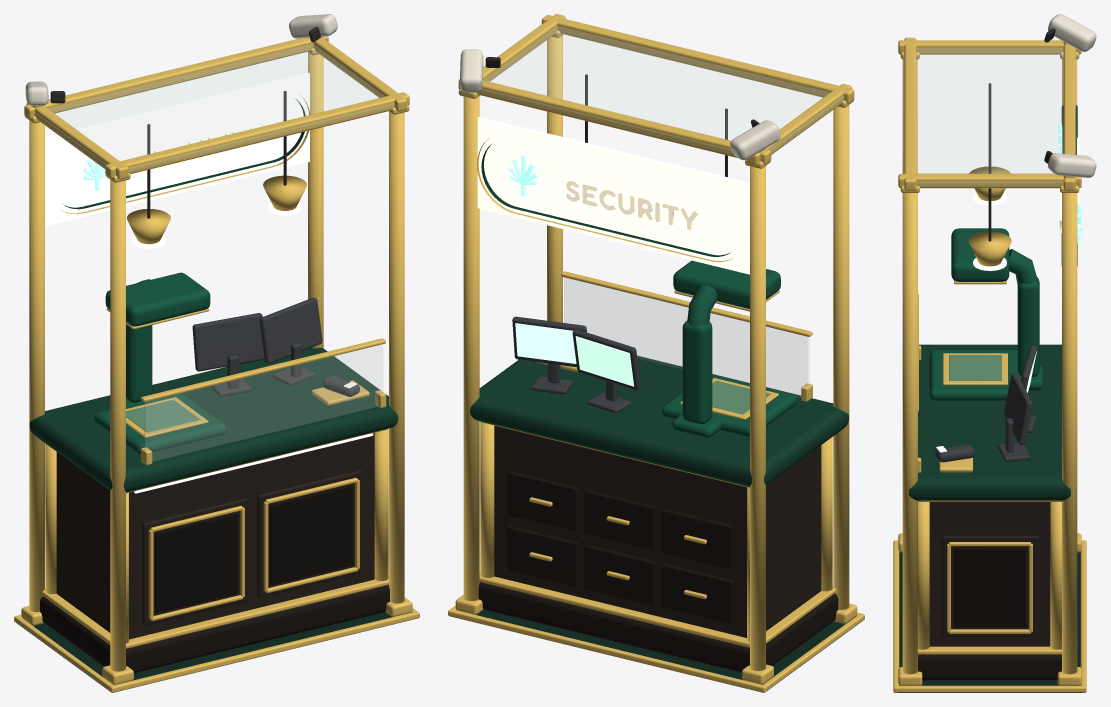
File: security_booth_founder.glb
3 renders of one model, left to right at view 1: azimuth 30°, elevation 25°; view 2: azimuth 150°, elevation 25°; view 3: azimuth 270°, elevation 25°, orthographic. The views are drawn at different scales.
Parts seen in each view (by area): view 1: Body, Top, CanopyGlass, SignGlow, GuardGlass, Plinth, FrontPost-1, FrontPost1, RearPost-1, Front1Inset, Front0Inset, CanopyFrame0 (+25 smaller); view 2: Body, SignGlow, Top, CanopyGlass, GuardGlass, Plinth, RearPost1, FrontPost-1, RearPost-1, CanopyFrame0, CanopyFrame1, PlinthBrass (+29 smaller); view 3: CanopyGlass, Top, Body, FrontPost1, RearPost1, EndInset, Plinth, End, CanopyFrame3, CanopyFrame2, ScanPad, Mat (+28 smaller).
Boxes of the visible parts, bbox=[...] form: Body: bbox=[56, 433, 374, 639]; Top: bbox=[29, 347, 398, 492]; CanopyGlass: bbox=[34, 44, 394, 174]; SignGlow: bbox=[45, 72, 309, 226]; GuardGlass: bbox=[144, 344, 382, 461]; Plinth: bbox=[40, 585, 389, 672]; FrontPost-1: bbox=[110, 180, 125, 671]; FrontPost1: bbox=[389, 112, 404, 603]; RearPost-1: bbox=[29, 120, 44, 612]; Front1Inset: bbox=[269, 485, 352, 584]; Front0Inset: bbox=[154, 513, 237, 613]; CanopyFrame0: bbox=[105, 92, 409, 178]; Body: bbox=[494, 425, 821, 637]; SignGlow: bbox=[477, 116, 749, 274]; Top: bbox=[470, 355, 848, 486]; CanopyGlass: bbox=[479, 26, 844, 160]; GuardGlass: bbox=[564, 278, 809, 397]; Plinth: bbox=[478, 582, 838, 672]; RearPost1: bbox=[463, 96, 479, 600]; FrontPost-1: bbox=[833, 105, 849, 609]; RearPost-1: bbox=[750, 166, 765, 670]; CanopyFrame0: bbox=[541, 15, 854, 103]; CanopyFrame1: bbox=[458, 79, 771, 164]; PlinthBrass: bbox=[479, 573, 836, 647]; CanopyGlass: bbox=[903, 48, 1076, 185]; Top: bbox=[909, 344, 1070, 500]; Body: bbox=[929, 502, 1050, 646]; FrontPost1: bbox=[902, 193, 917, 674]; RearPost1: bbox=[1062, 193, 1077, 674]; EndInset: bbox=[954, 548, 1026, 626]; Plinth: bbox=[918, 654, 1061, 680]; End: bbox=[941, 535, 1038, 636]; CanopyFrame3: bbox=[898, 173, 1081, 188]; CanopyFrame2: bbox=[898, 40, 1081, 54]; ScanPad: bbox=[929, 350, 1017, 400]; Mat: bbox=[894, 552, 1082, 692].
Bounding box in the file's own units: 1.46 × 2.44 × 0.841.
